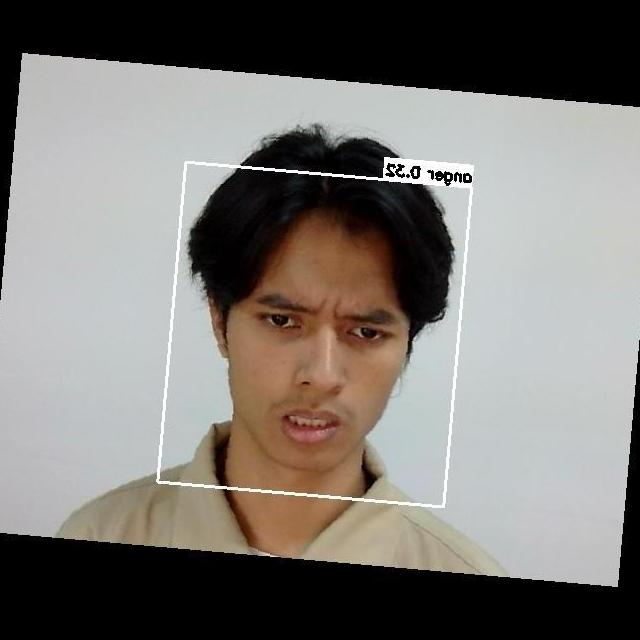Fear: (227, 262, 418, 459)
